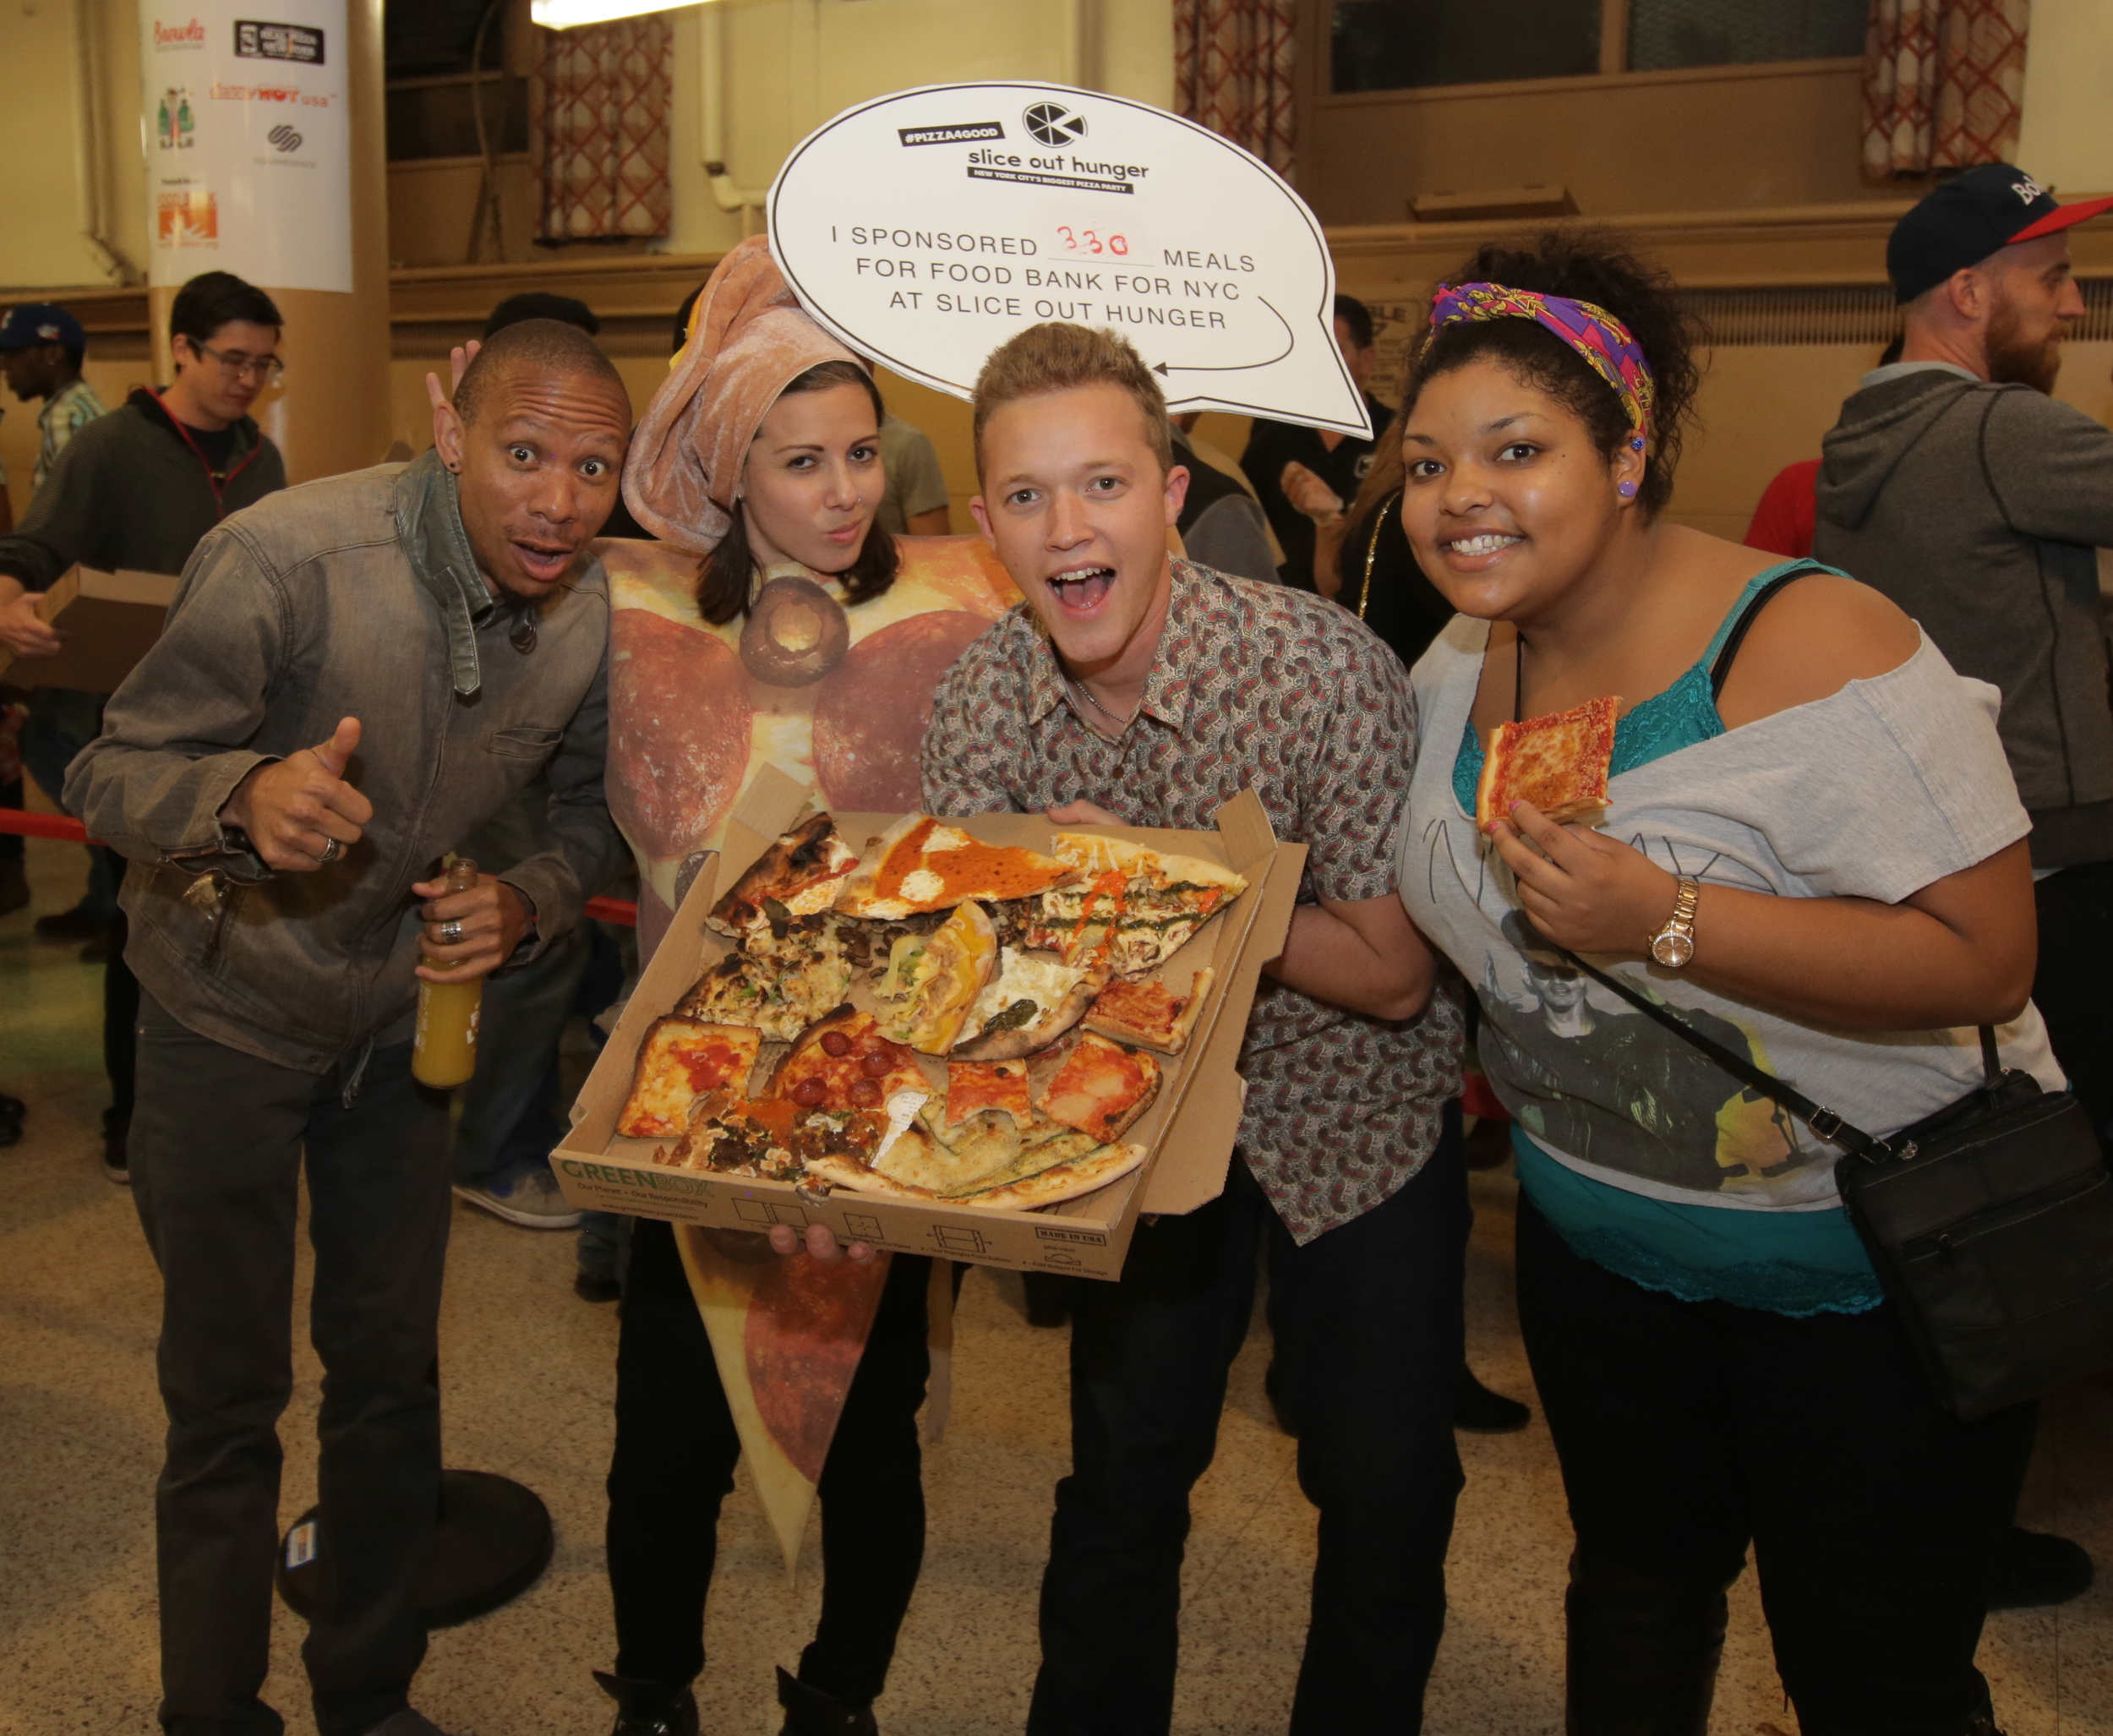Pizza: (800, 1057, 1150, 1209), (1023, 827, 1255, 974), (830, 807, 1085, 918), (670, 907, 867, 1043), (1474, 697, 1625, 844), (700, 809, 862, 944), (760, 1002, 944, 1118), (874, 890, 999, 1060), (611, 1013, 763, 1141), (951, 946, 1116, 1058), (656, 1087, 809, 1188), (1037, 1029, 1164, 1148), (1067, 964, 1218, 1057), (939, 1055, 1037, 1136)
